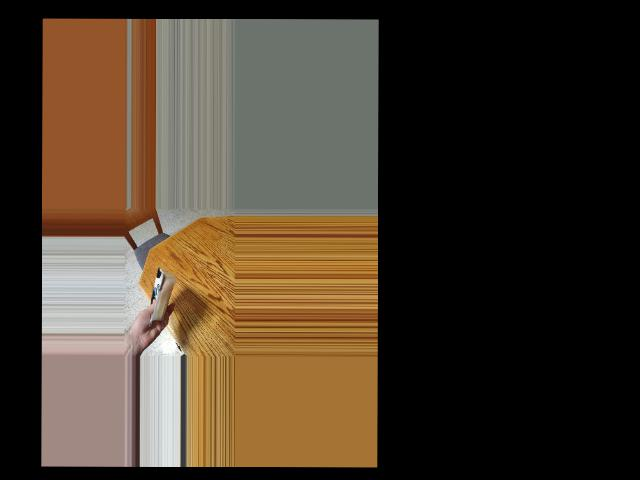cheese: (137, 270, 181, 321)
